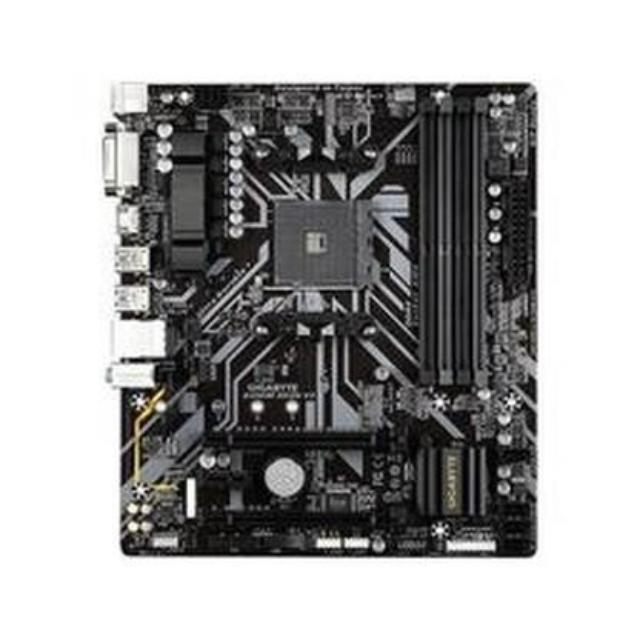Mainboard: (100, 76, 542, 570)
